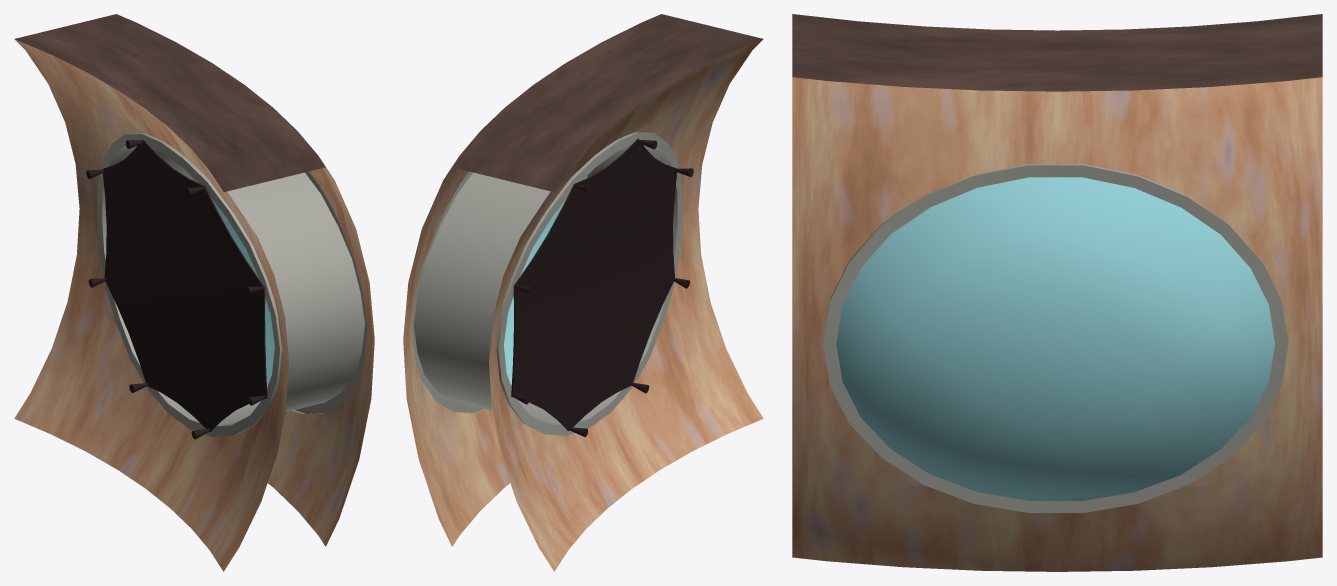
The model's file is FI_081_francos_building_wall_window_covered.glb.
3 renders of one model, left to right at view 1: azimuth 30°, elevation 25°; view 2: azimuth 150°, elevation 25°; view 3: azimuth 270°, elevation 25°, orthographic. The views are drawn at different scales.
Parts seen in each view (by area): view 1: wall_hole.002, window_cover_small, glass_out.001; view 2: wall_hole.002, window_cover_small, glass_out.001; view 3: wall_hole.002, glass_out.001, glass_in.001.
Boxes of the visible parts, box(x1,y1,x2,y2) form: wall_hole.002: box(14, 14, 374, 571); window_cover_small: box(86, 139, 267, 439); glass_out.001: box(192, 177, 274, 385); wall_hole.002: box(403, 14, 763, 571); window_cover_small: box(511, 138, 693, 436); glass_out.001: box(503, 176, 587, 384); wall_hole.002: box(792, 14, 1322, 571); glass_out.001: box(836, 177, 1274, 500); glass_in.001: box(836, 177, 1273, 500).
Size of the model in its own units: 1.65 by 3 by 3.
5 materials, 2 textured.
